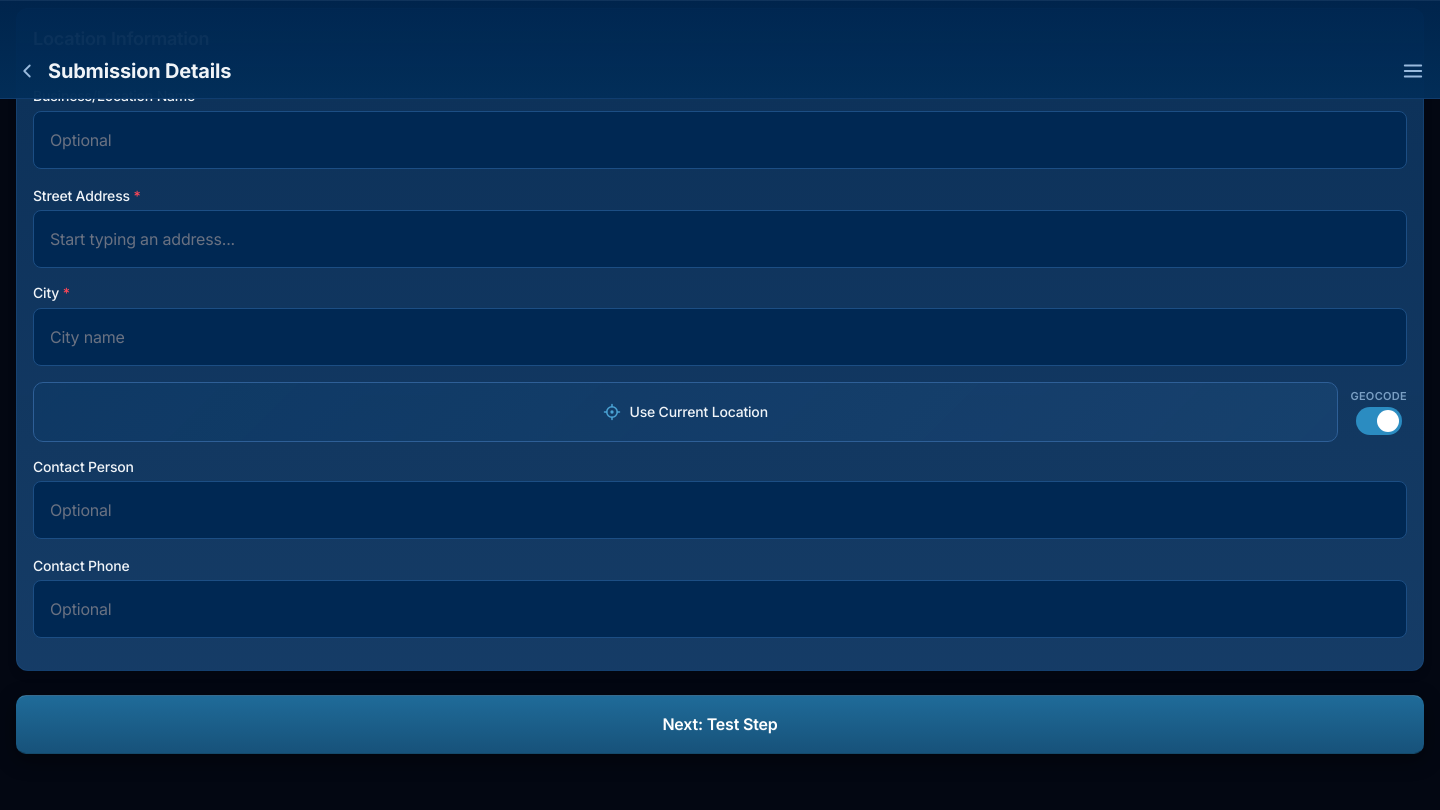
Test: Submission — GPS honest failure paths › reports the permission denial verbatim and writes nothing
(page scrolled)
Click the button "Use Current Location" at (686, 412), box [33,382,1338,442]
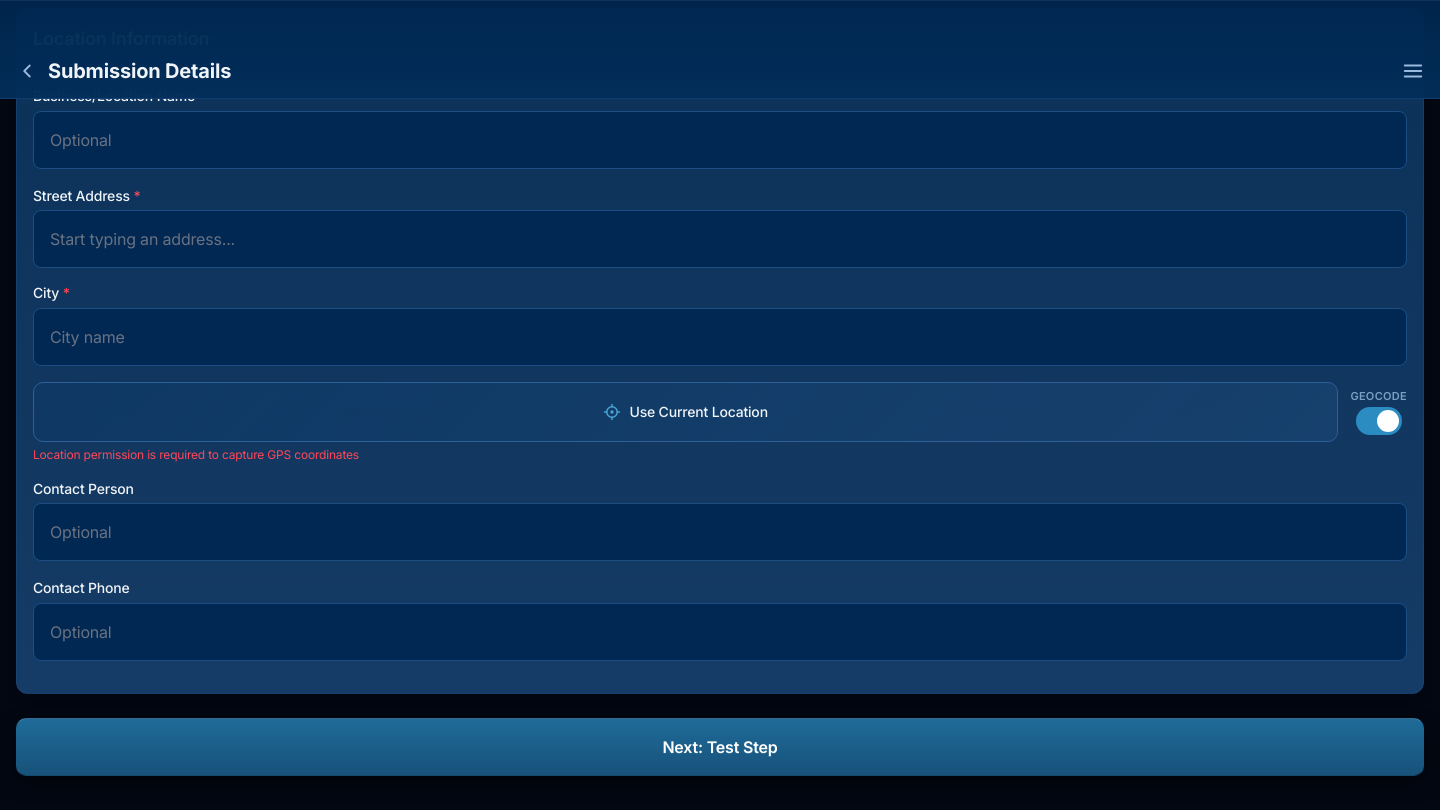
Expected: the message with test id "gps-capture-error" reads "Location permission is required to capture GPS coordinates", [33,446,359,462]
